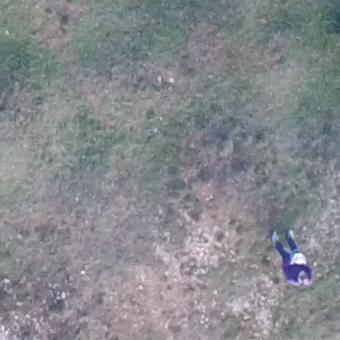human: (271, 229, 314, 287)
